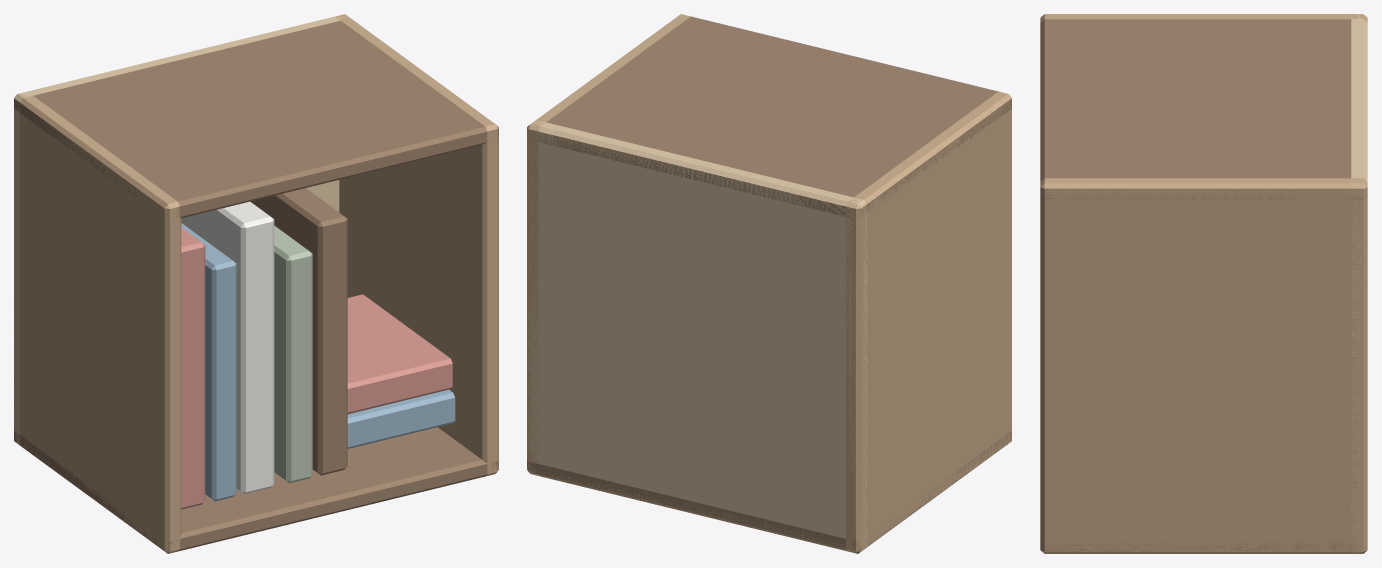
File: Books_1x1.glb
The picture shows the model from 3 angles, left to right: view 1: azimuth 30°, elevation 25°; view 2: azimuth 150°, elevation 25°; view 3: azimuth 270°, elevation 25°; orthographic projection. The views are drawn at different scales.
Visible parts, largest first — view 1: SpaceSaver_WallSys_Books_1x1; view 2: SpaceSaver_WallSys_Books_1x1; view 3: SpaceSaver_WallSys_Books_1x1.
Boxes of the visible parts, box(x1,y1,x2,y2) form: SpaceSaver_WallSys_Books_1x1: box(14, 14, 498, 553); SpaceSaver_WallSys_Books_1x1: box(527, 14, 1011, 553); SpaceSaver_WallSys_Books_1x1: box(1040, 14, 1367, 553).
Bounding box in the file's own units: 0.4 × 0.4 × 0.32.
